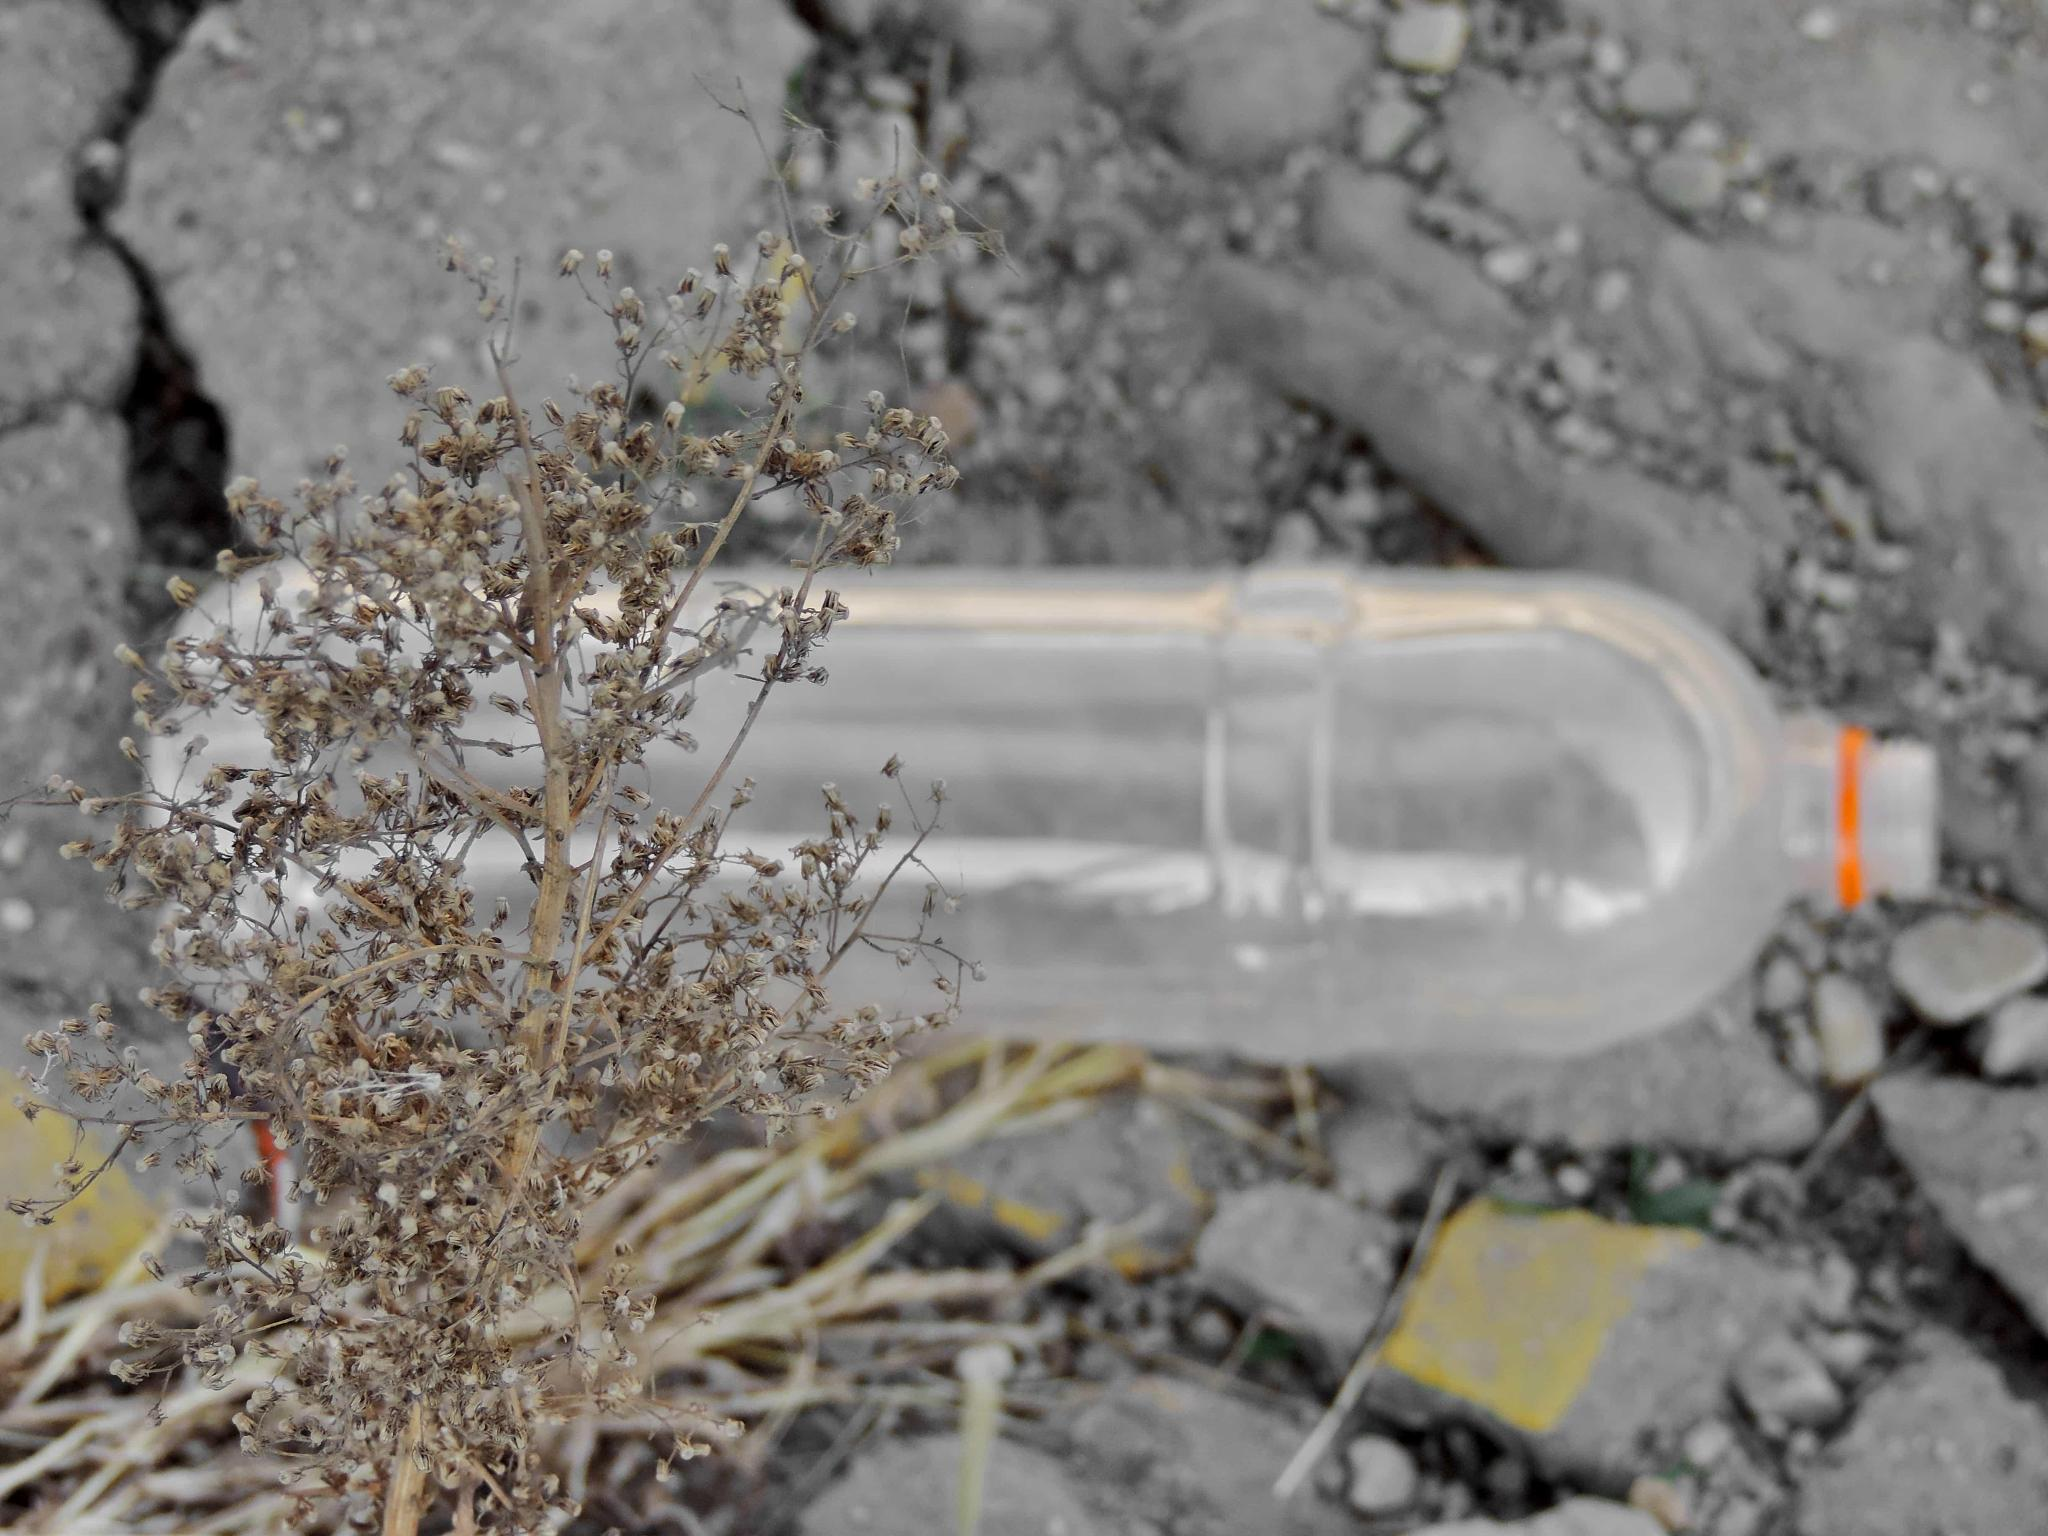bottle: (119, 545, 1966, 1076)
